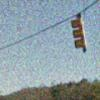traffic lights: (72, 14, 87, 52)
